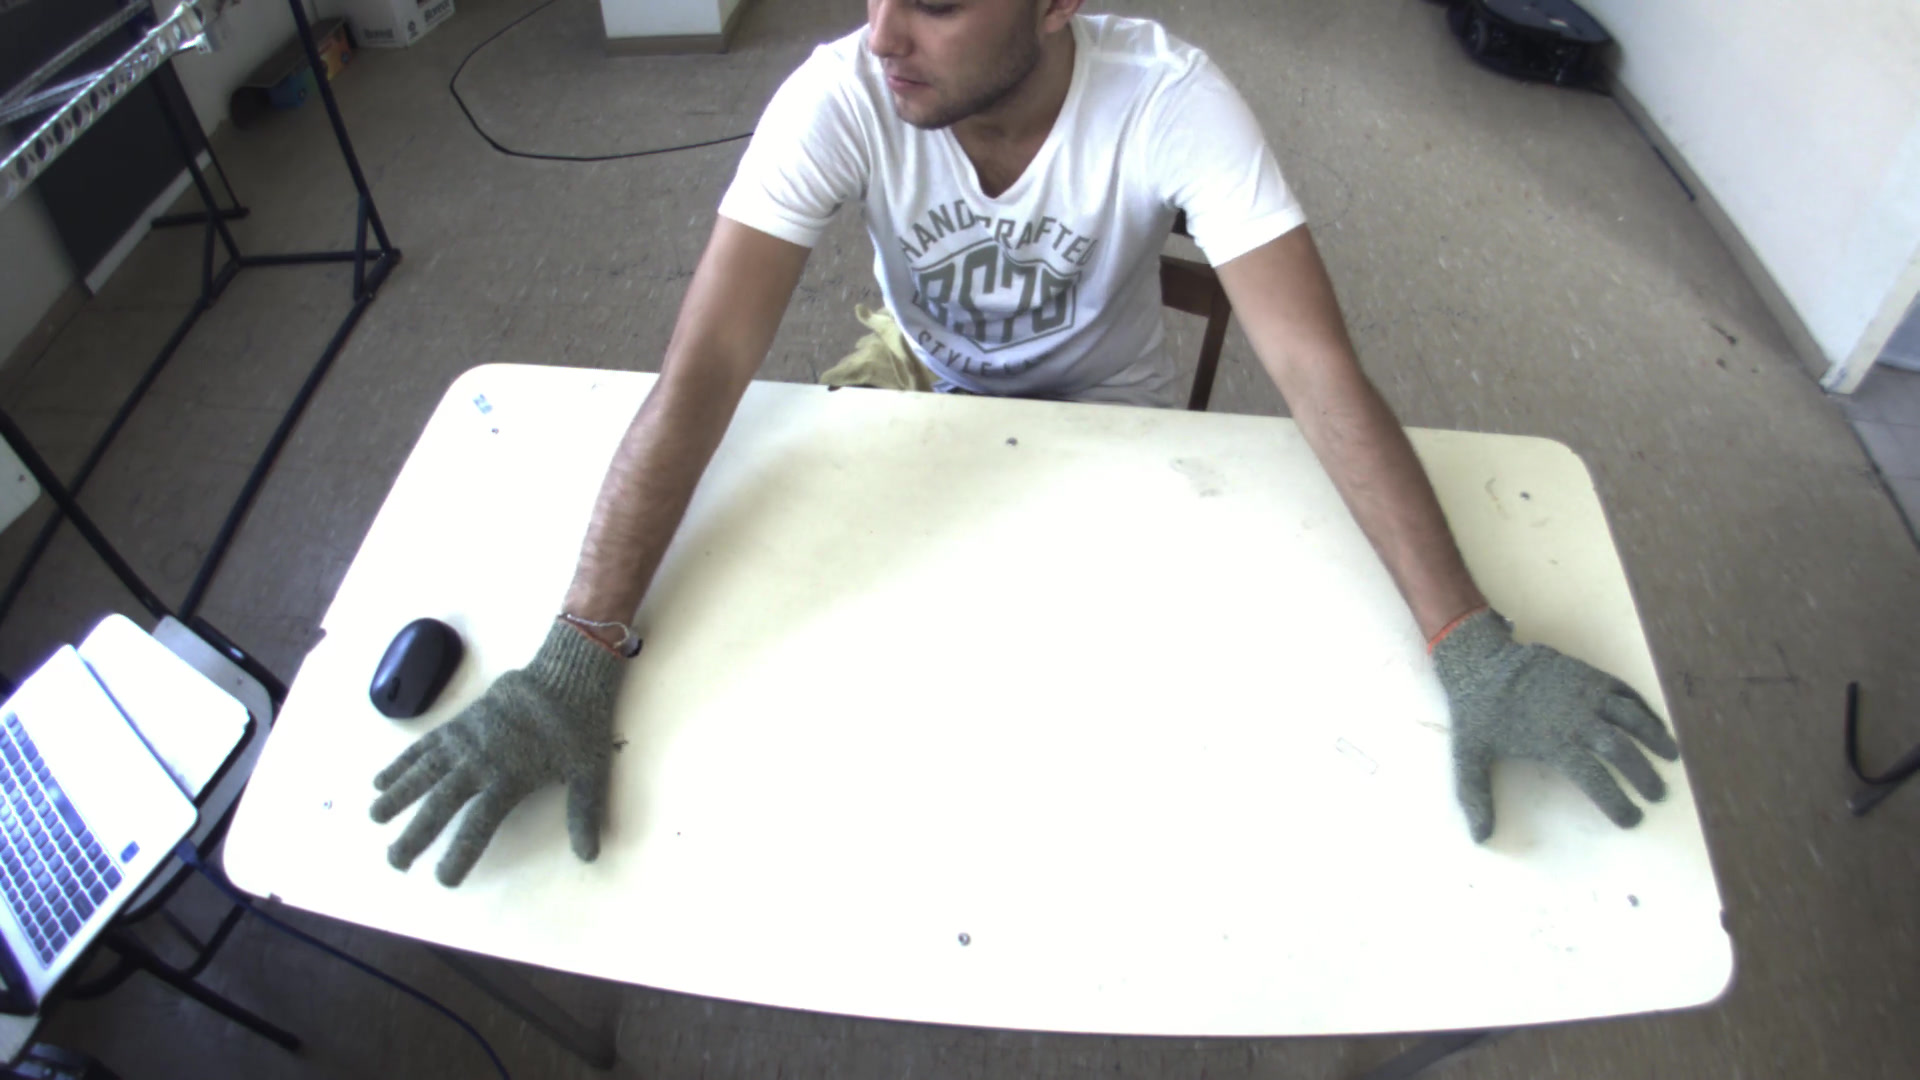hand: (343, 620, 629, 897), (1416, 622, 1693, 847)
